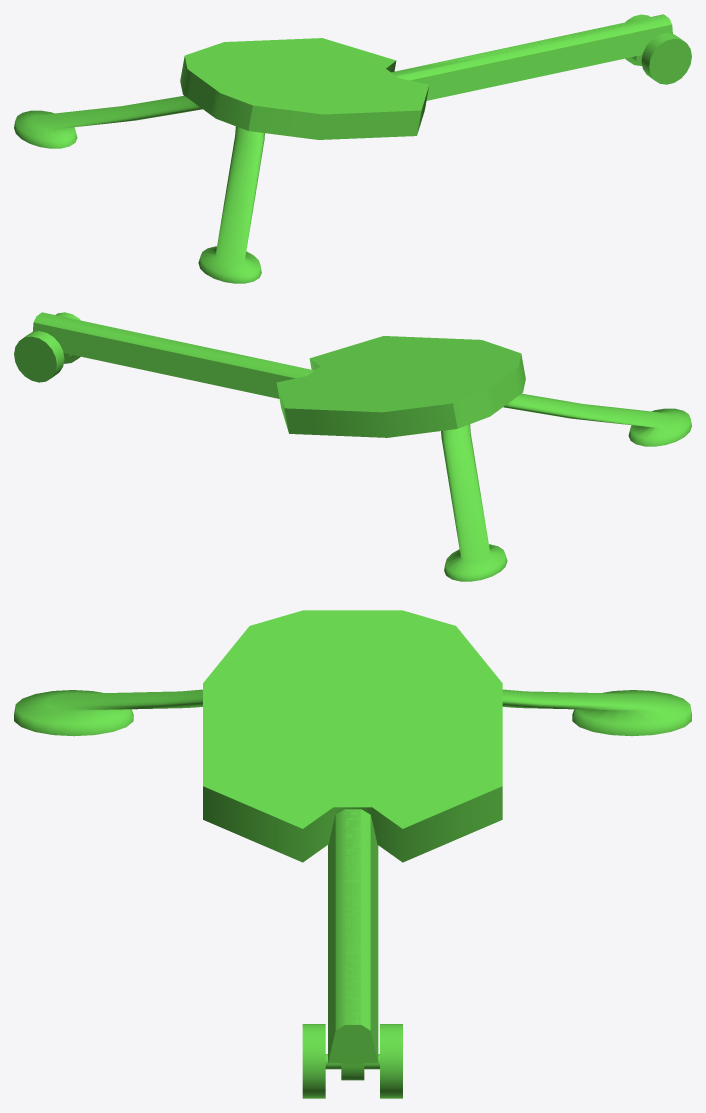
3 views of the same model, one above another, from view 1: azimuth 30°, elevation 25°; view 2: azimuth 150°, elevation 25°; view 3: azimuth 270°, elevation 25° (orthographic). The views are drawn at different scales.
Parts seen in each view (by area): view 1: Box001; view 2: Box001; view 3: Box001.
Part boxes in pixels (x1,y1,x2,y2): Box001: (14,14,691,283); Box001: (14,312,691,581); Box001: (14,610,691,1098).
Size of the model in its own units: 106 by 18.55 by 72.89.
